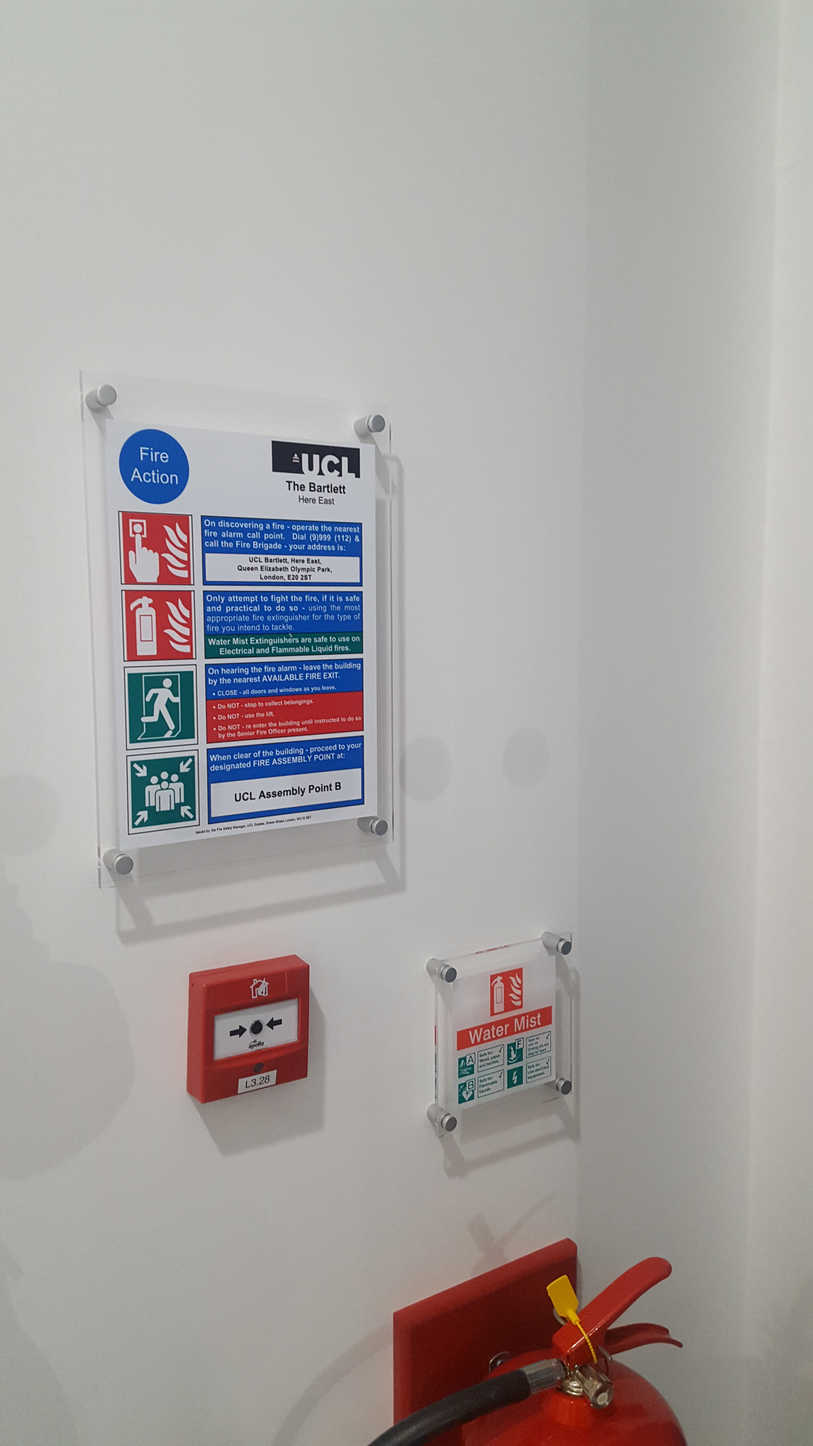fire_extinguisher: (368, 1237, 687, 1445)
